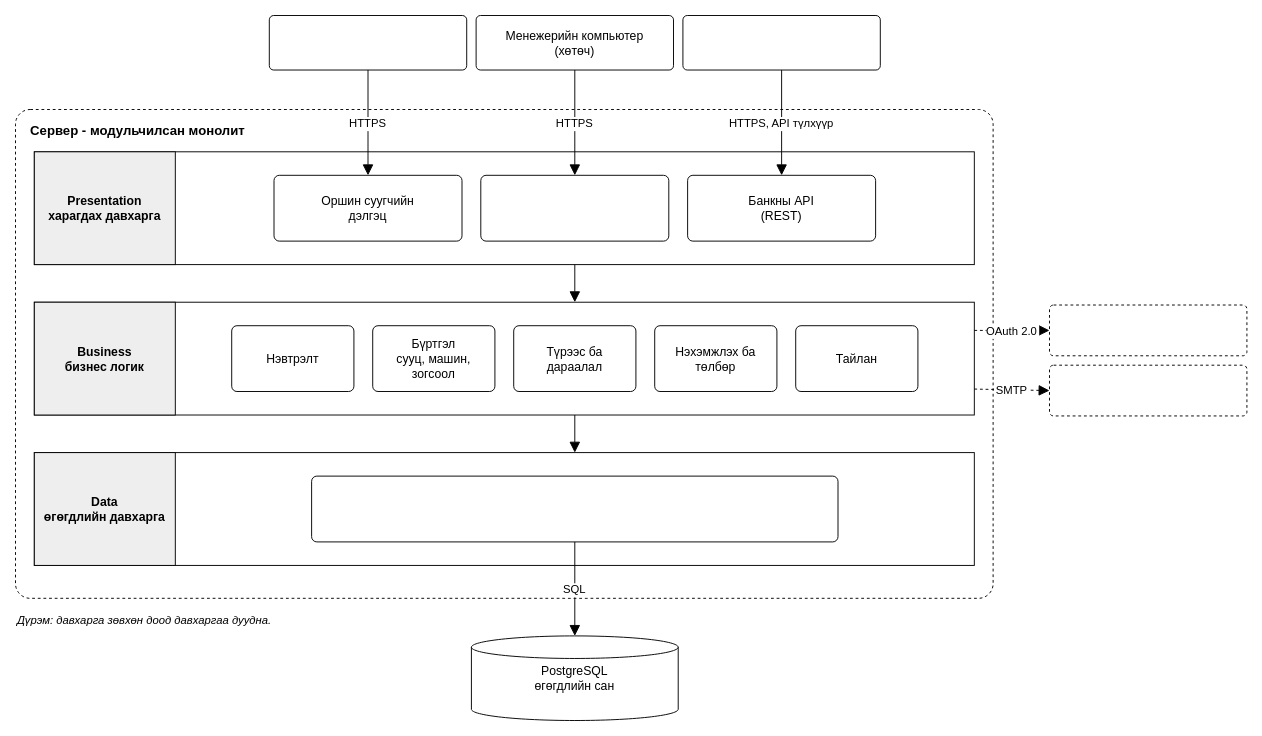
Image size: 1262x736. Some labels were removed from this diagram. The centre of each missing label's shape, as x and y in pixels:
"«тоглогч» Google нэвтрэлт" goes at (1148,330).
"«тоглогч» Банкны апп" goes at (781,42).
"«тоглогч» И-мэйл үйлчилгээ" goes at (1148,390).
"Менежерийн вэб хуудас" goes at (574,207).
"Оршин суугчийн утас (хөтөч, PWA)" goes at (367,42).
"Өгөгдлийн хандалт (ORM, гүйлгээ)" goes at (574,508).
